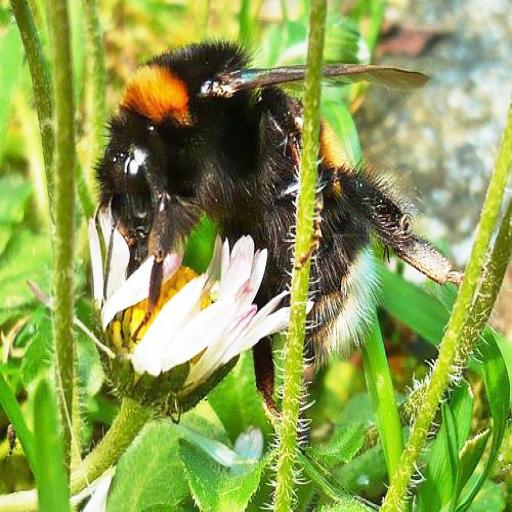daisy: (93, 204, 242, 406)
